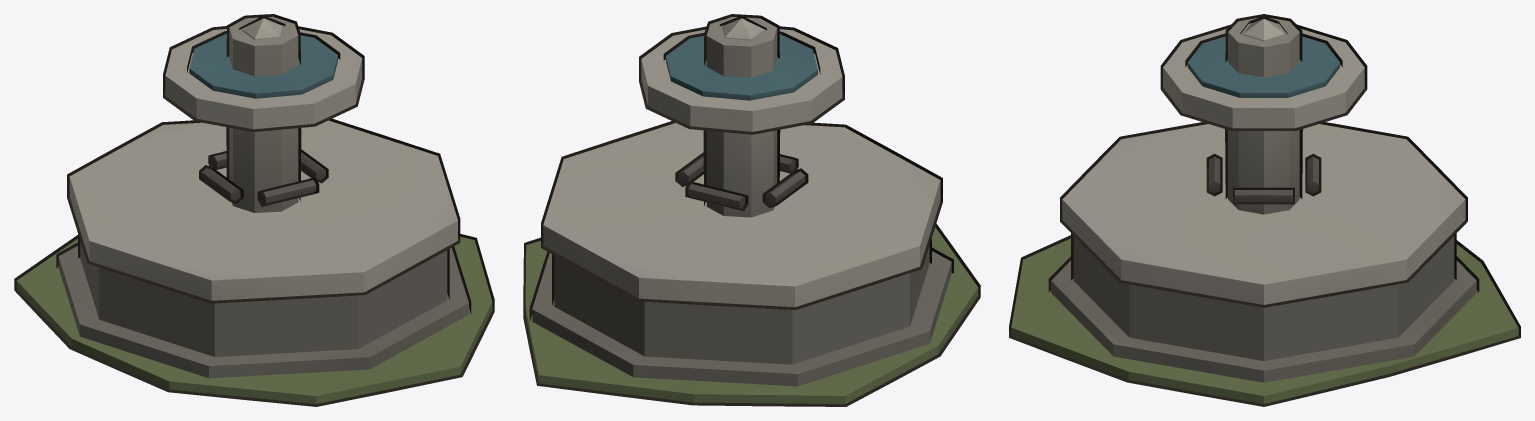
The model's file is fontaine.glb.
The picture shows the model from 3 angles, left to right: view 1: azimuth 30°, elevation 25°; view 2: azimuth 150°, elevation 25°; view 3: azimuth 270°, elevation 25°; orthographic projection. The views are drawn at different scales.
Parts seen in each view (by area): view 1: fontaine, fontaine_outline; view 2: fontaine, fontaine_outline; view 3: fontaine, fontaine_outline.
Part boxes in pixels (x1,y1,x2,y2): fontaine: (16,16,492,403); fontaine_outline: (14,14,494,406); fontaine: (525,17,978,404); fontaine_outline: (523,14,980,406); fontaine: (1011,17,1518,403); fontaine_outline: (1009,14,1520,406).
Size of the model in its own units: 2.1 by 1.41 by 2.28.
